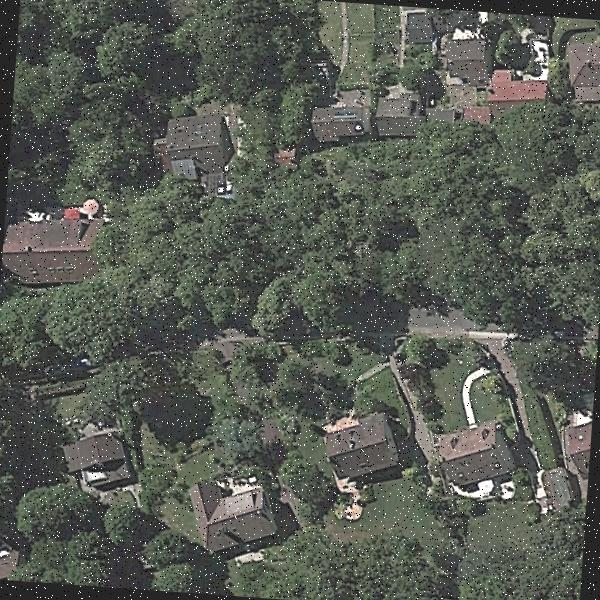Buildings: (188, 473, 280, 553), (1, 225, 96, 282), (157, 112, 230, 186), (327, 413, 402, 478), (550, 418, 592, 498), (440, 430, 503, 482), (311, 93, 368, 150), (68, 435, 131, 485), (485, 70, 548, 111), (372, 93, 428, 133), (562, 38, 600, 95), (446, 38, 486, 76), (0, 531, 25, 581), (402, 14, 430, 45)
